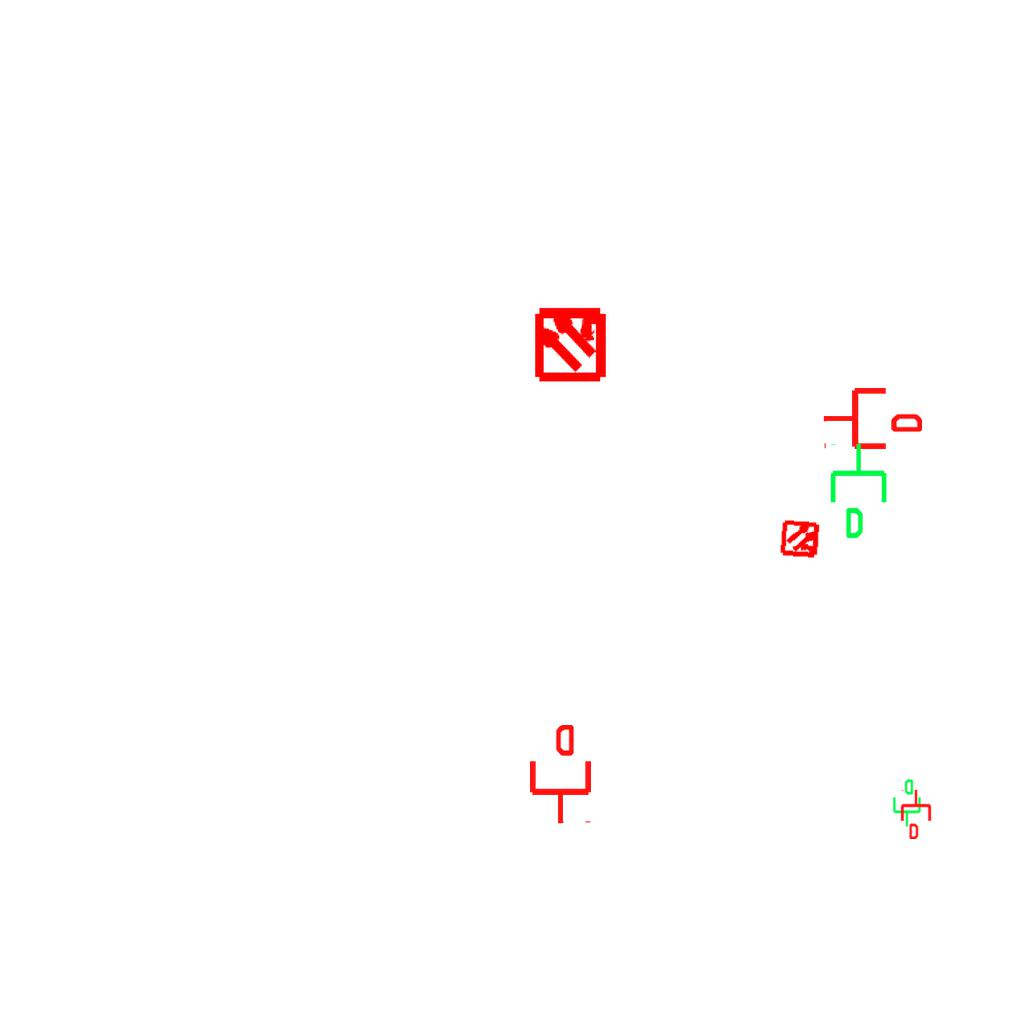Datenanschluss_einfach: (822, 384, 922, 453), (526, 725, 595, 825), (826, 441, 895, 541), (889, 778, 923, 828), (899, 789, 933, 839)
OT_Multisensormelder_(Kombination_RMO_WMD): (514, 286, 627, 399), (771, 509, 831, 569)
